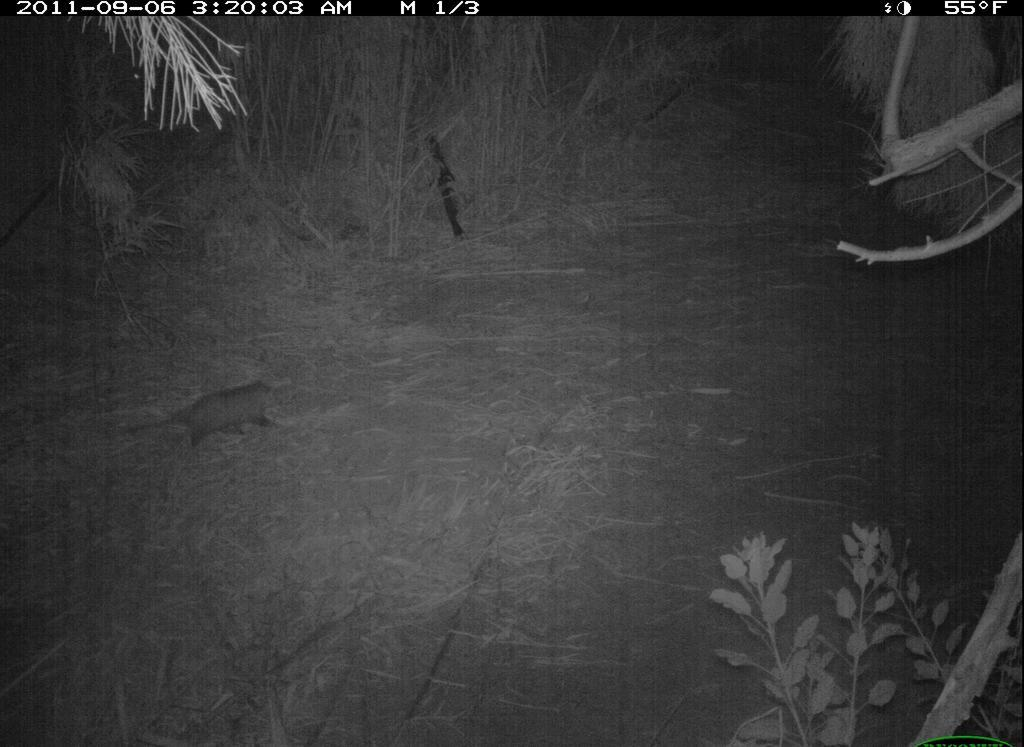opossum: (112, 376, 299, 461)
